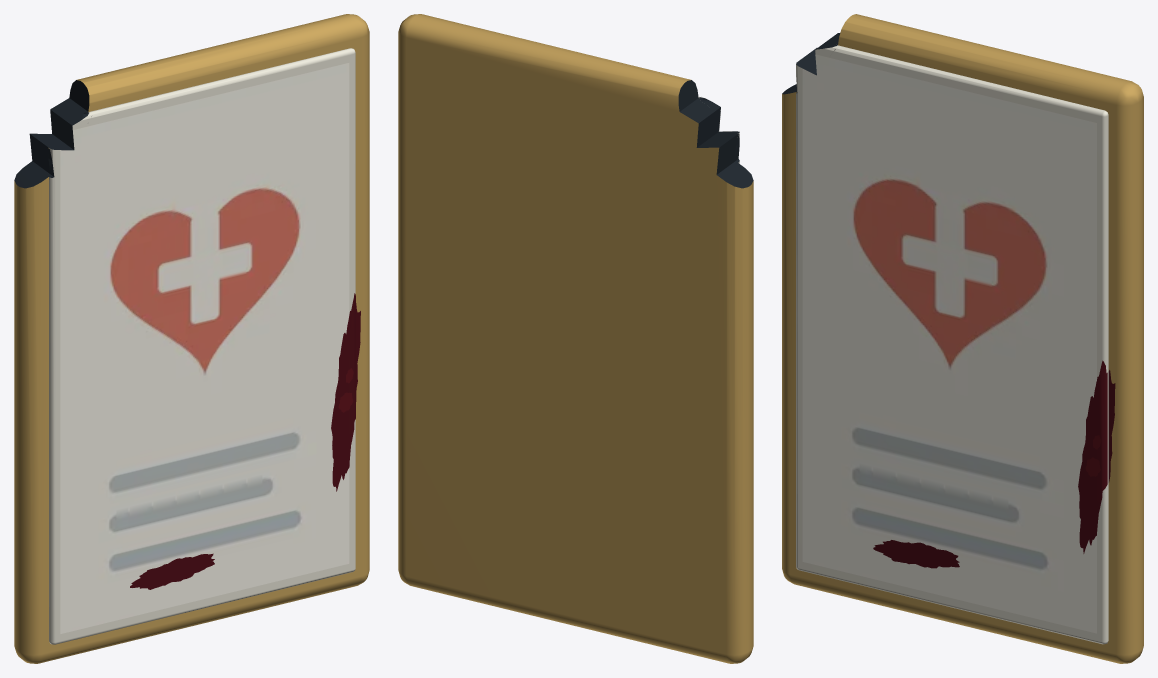
The model's file is reception_poster_heart.glb.
3 renders of one model, left to right at view 1: azimuth 30°, elevation 25°; view 2: azimuth 150°, elevation 25°; view 3: azimuth 330°, elevation 25°, orthographic.
Visible parts, largest first — view 1: reception_poster_heart_Outbreak_Static; view 2: reception_poster_heart_Outbreak_Static; view 3: reception_poster_heart_Outbreak_Static.
Boxes of the visible parts, x1,y1,x2,y2 form: reception_poster_heart_Outbreak_Static: [14, 14, 369, 663]; reception_poster_heart_Outbreak_Static: [398, 14, 753, 663]; reception_poster_heart_Outbreak_Static: [782, 14, 1143, 663].
Size of the model in its own units: 0.59 by 0.92 by 0.0668.
5 materials, 1 textured.
